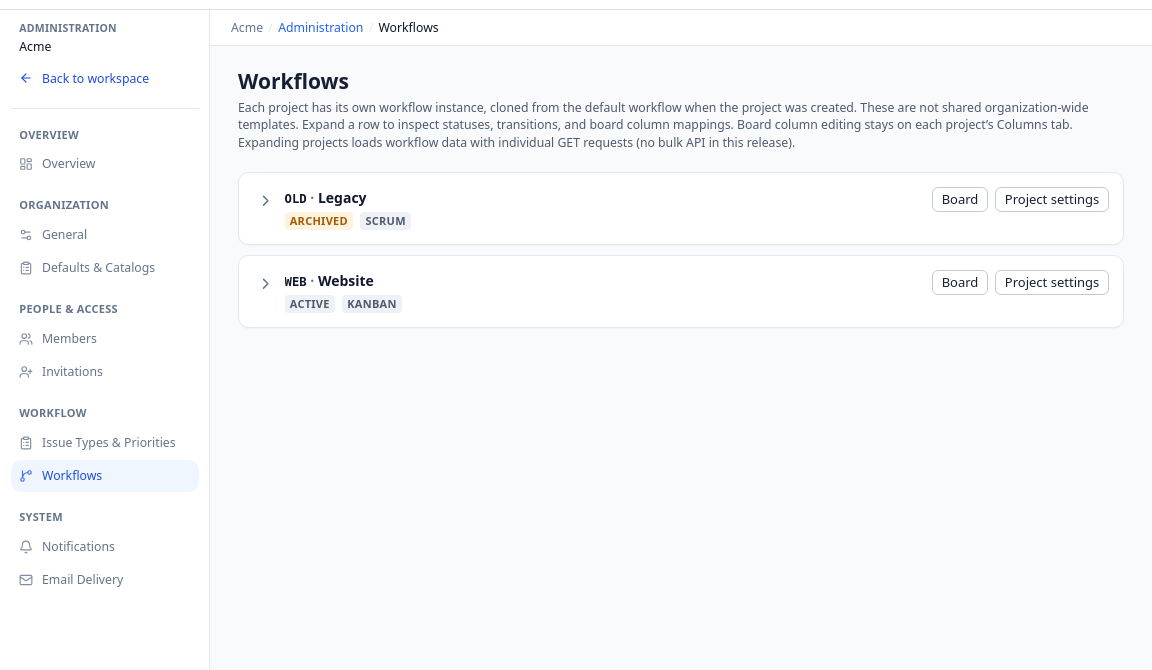
Test case: AdminWorkflowHubPage › reuses cached workflow data when re-expanding without extra requests
Expected: the text "Website" is shown, x1=318 y1=271 x2=374 y2=290
Step 1. Click the button named "Expand workflow details for WEB" in the row of "Website" → click(265, 284), box x1=253 y1=272 x2=278 y2=296
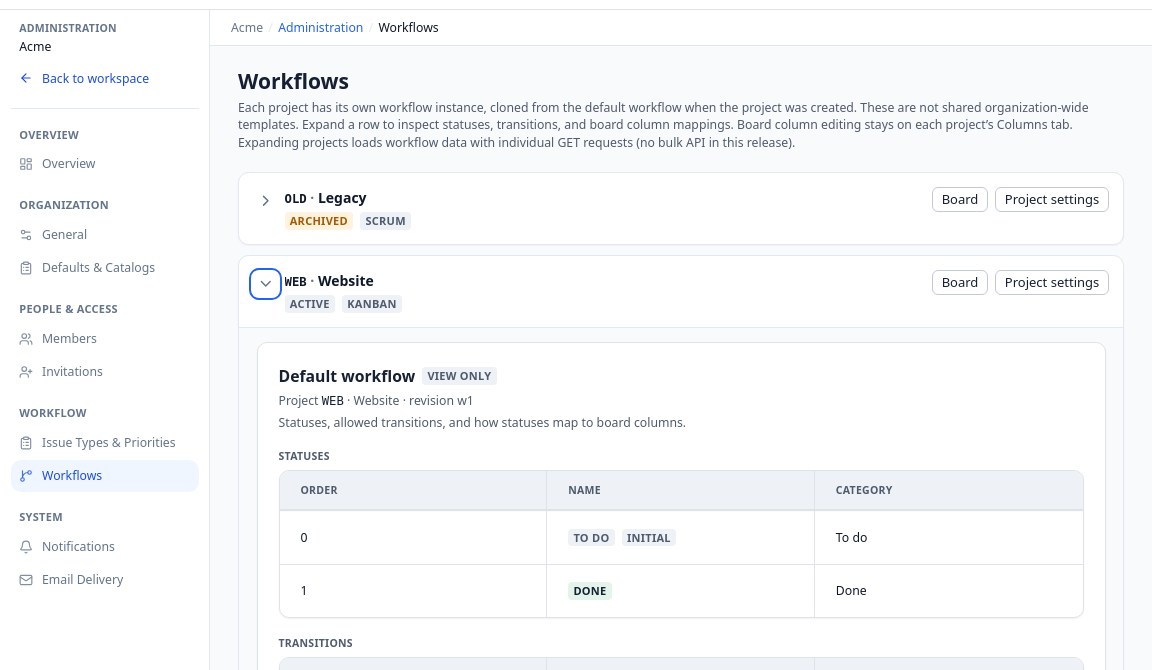
Step 2. Click the 3rd button named "Collapse workflow details for WEB" → click(265, 284), box x1=253 y1=272 x2=278 y2=296
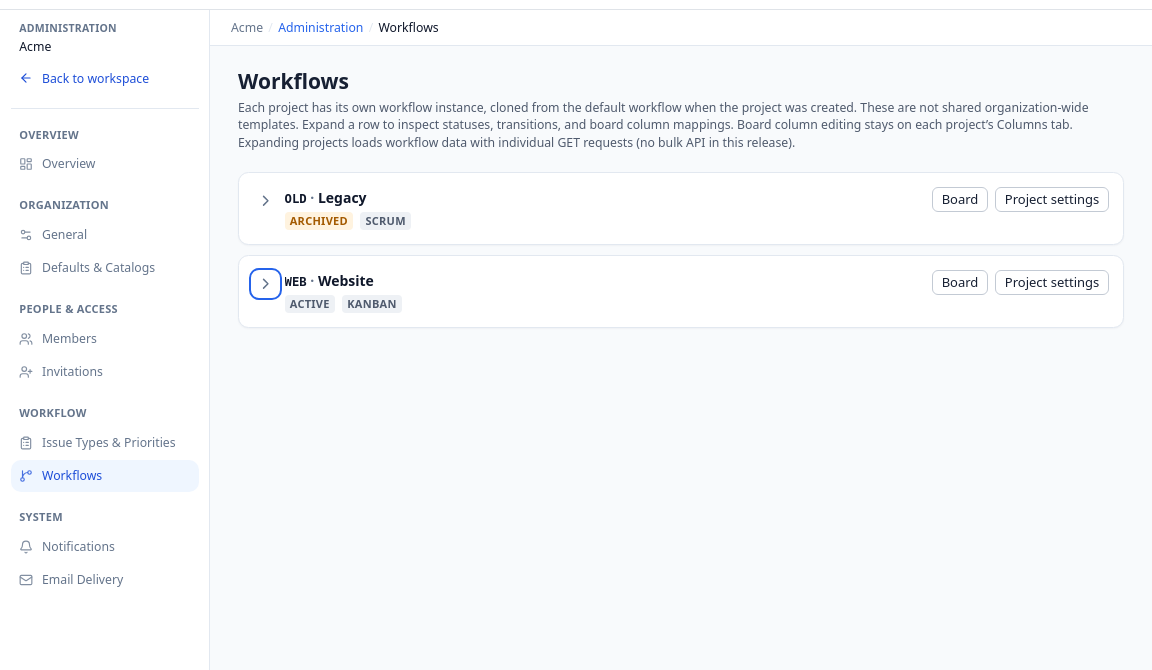
Step 3. Click the button named "Expand workflow details for WEB" in the row of "Website" → click(265, 284), box x1=253 y1=272 x2=278 y2=296
(page scrolled)
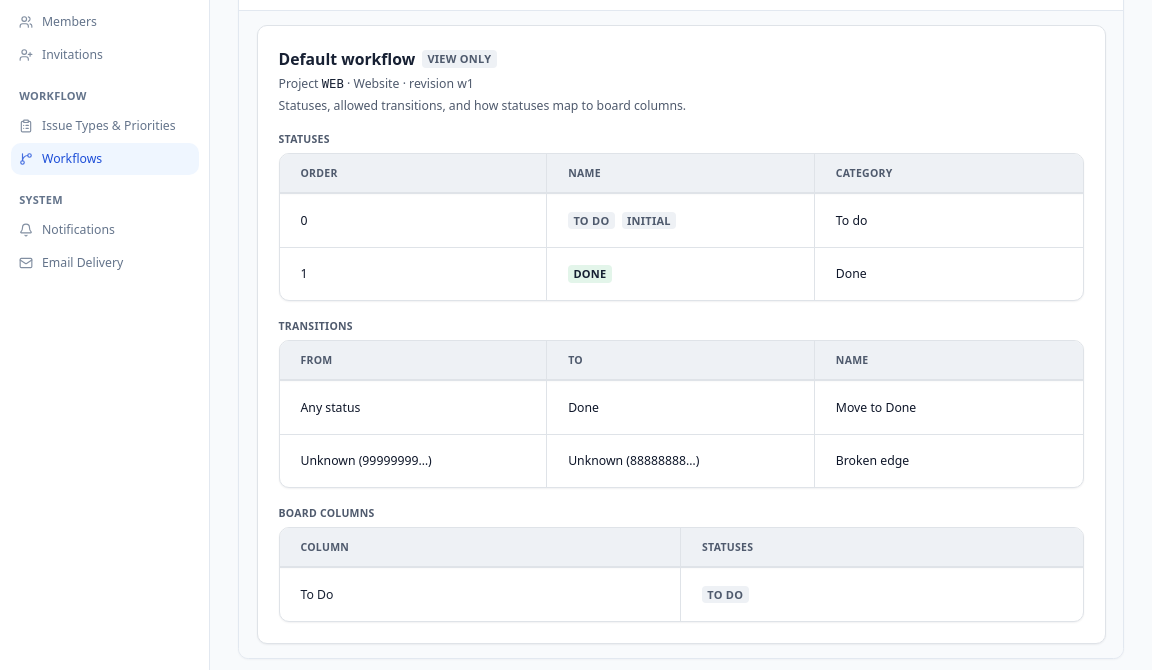
Expected: the table named "Board columns" is shown, x1=280 y1=528 x2=1082 y2=620
